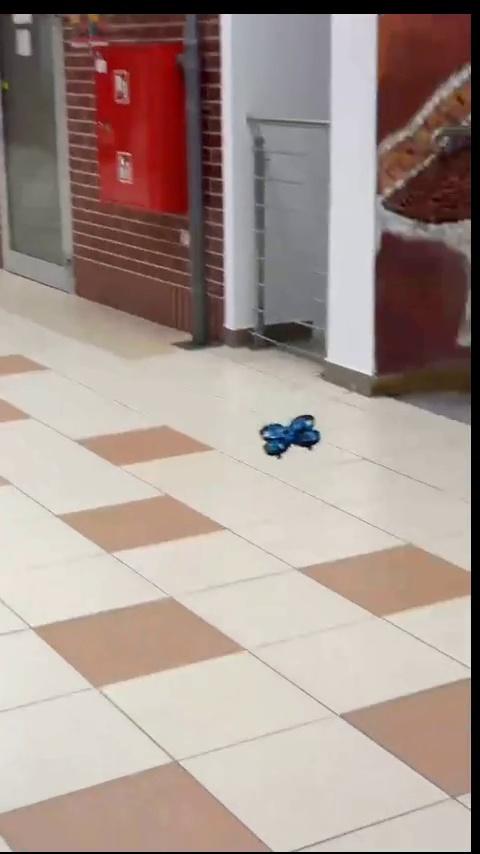drone: (262, 418, 327, 460)
